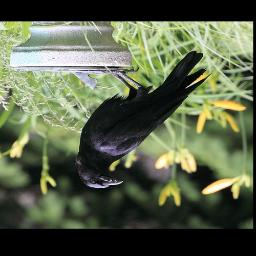Crow: (75, 49, 214, 189)
